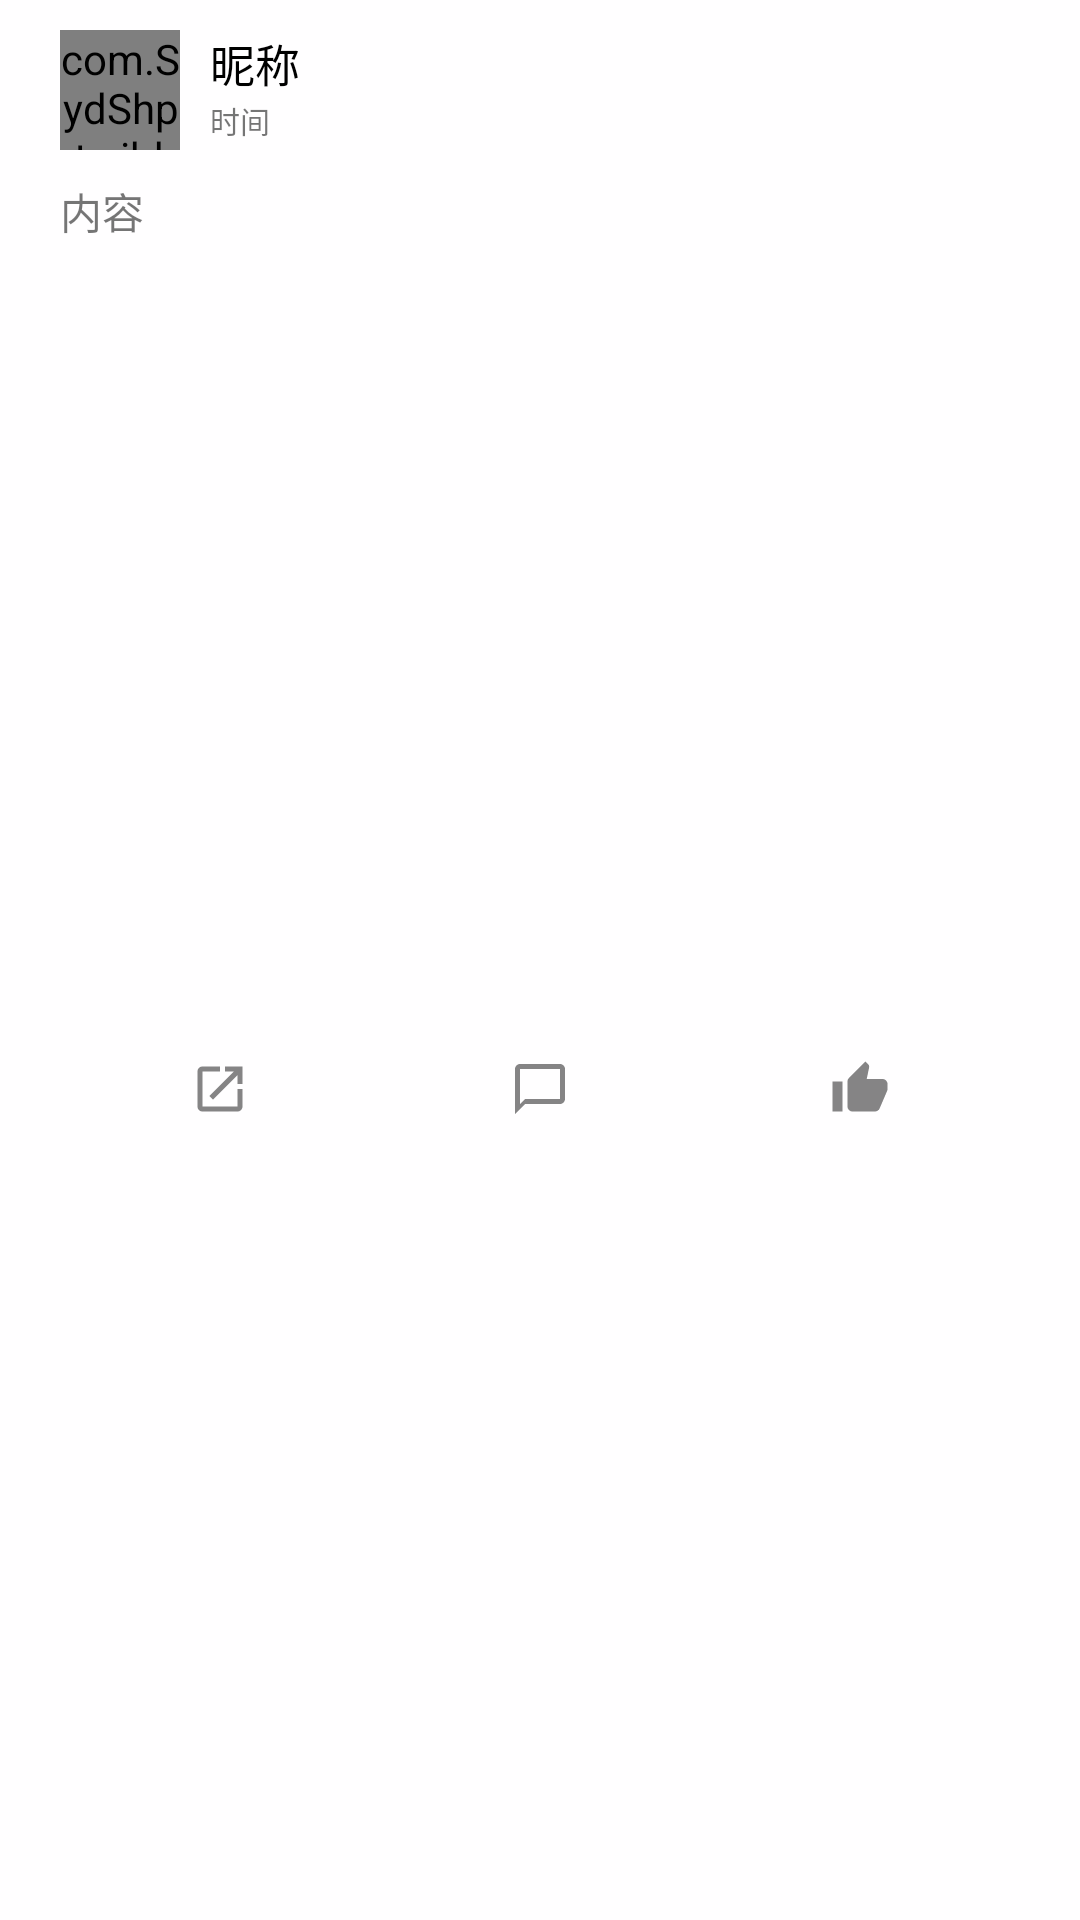

Icons on this 1080w x 1920h Android screen, each with the point to tap as [x,y]:
comment: [540,1089]
like: [860,1086]
trans: [220,1089]
